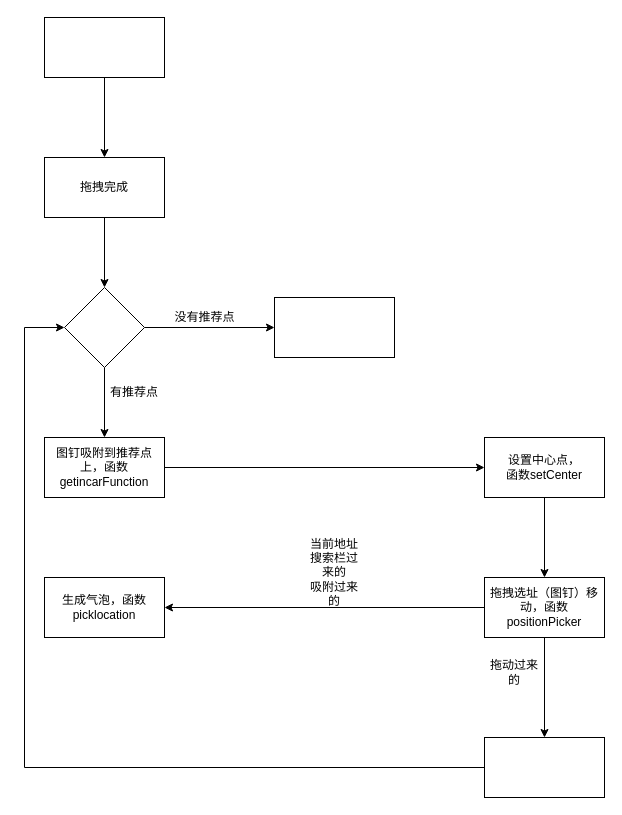
The diagram is 622 pixels wide and 815 high, and some of its shapes have lost their labels. Here are the shapes that lost their labels. From the top down, the box of each, then its label:
(44, 16, 164, 78): 拖拽开始
(64, 286, 144, 368): 地图定位，查找生成推荐点。函数boardingPoint
(484, 736, 604, 798): 更新到上车点updateIncar
